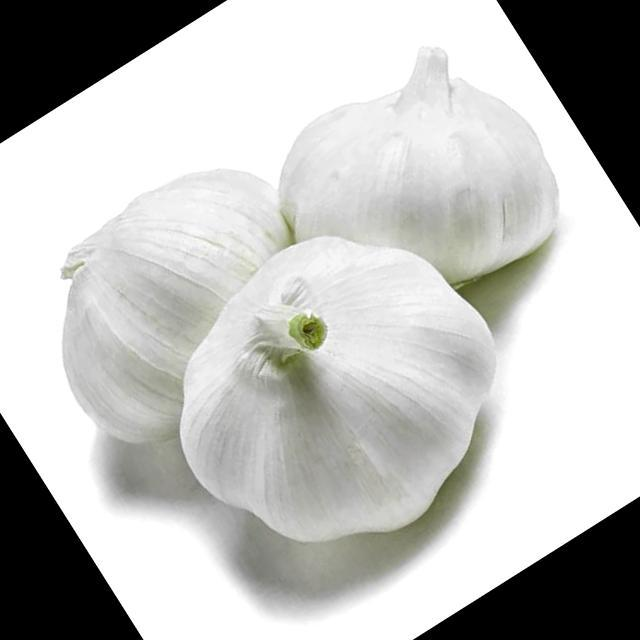garlic: (179, 236, 495, 542), (279, 48, 558, 284), (61, 170, 290, 442)
